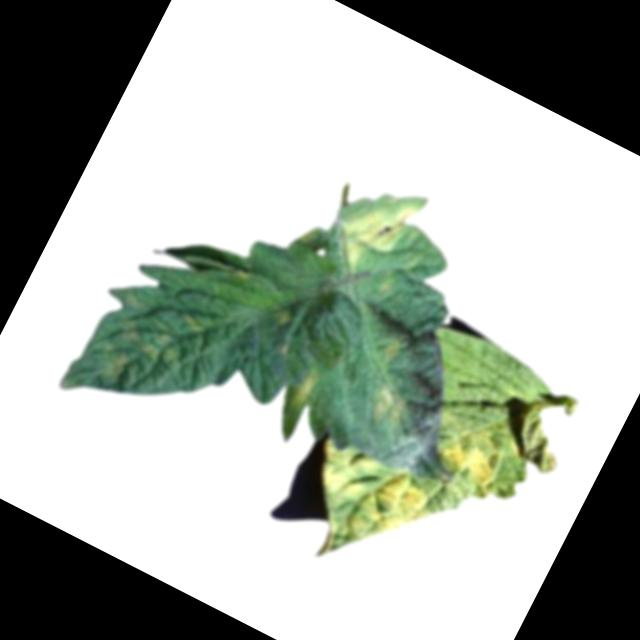Leaf_Mold: (277, 429, 448, 592), (71, 284, 198, 415), (324, 167, 435, 288), (429, 413, 521, 501), (281, 357, 329, 420), (363, 380, 411, 432)
